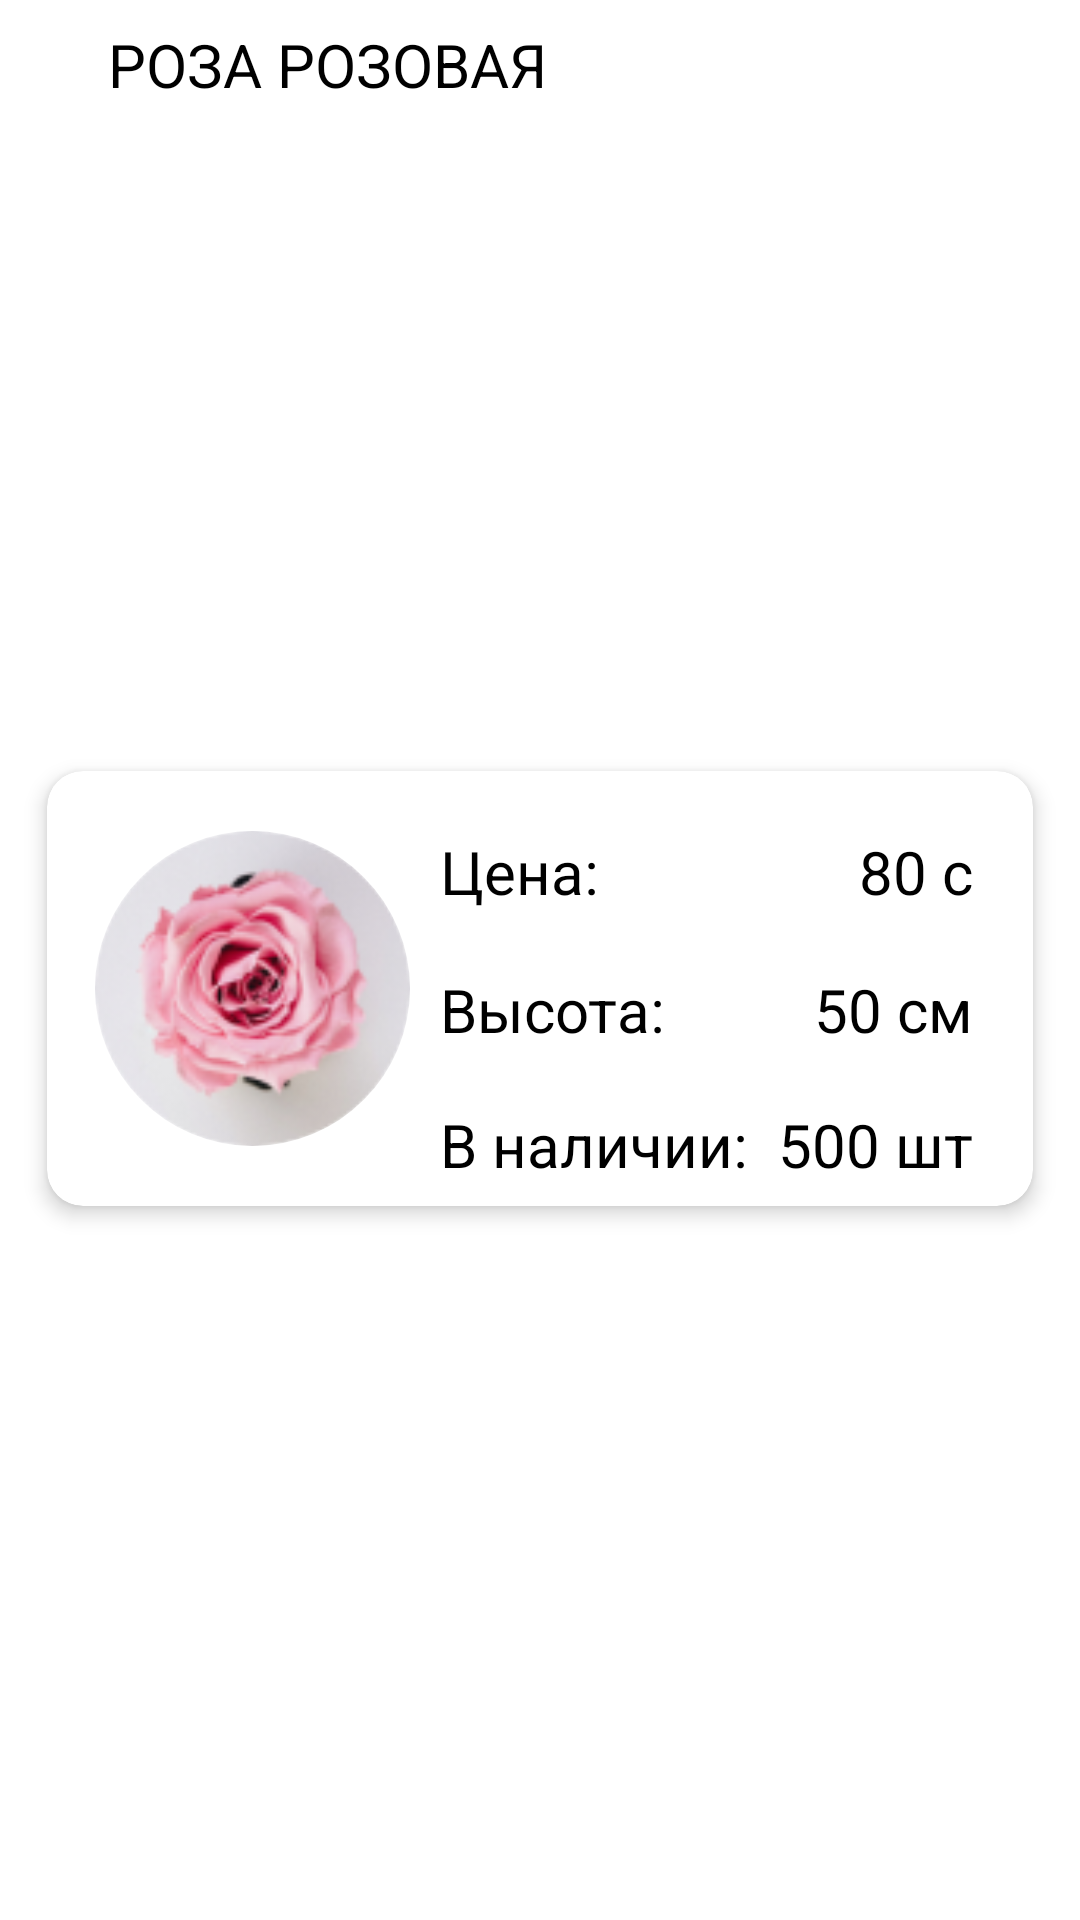

Screen size 1080x1920. Icon name, then its center in pixels as [x,y]:
rose: [252,988]
